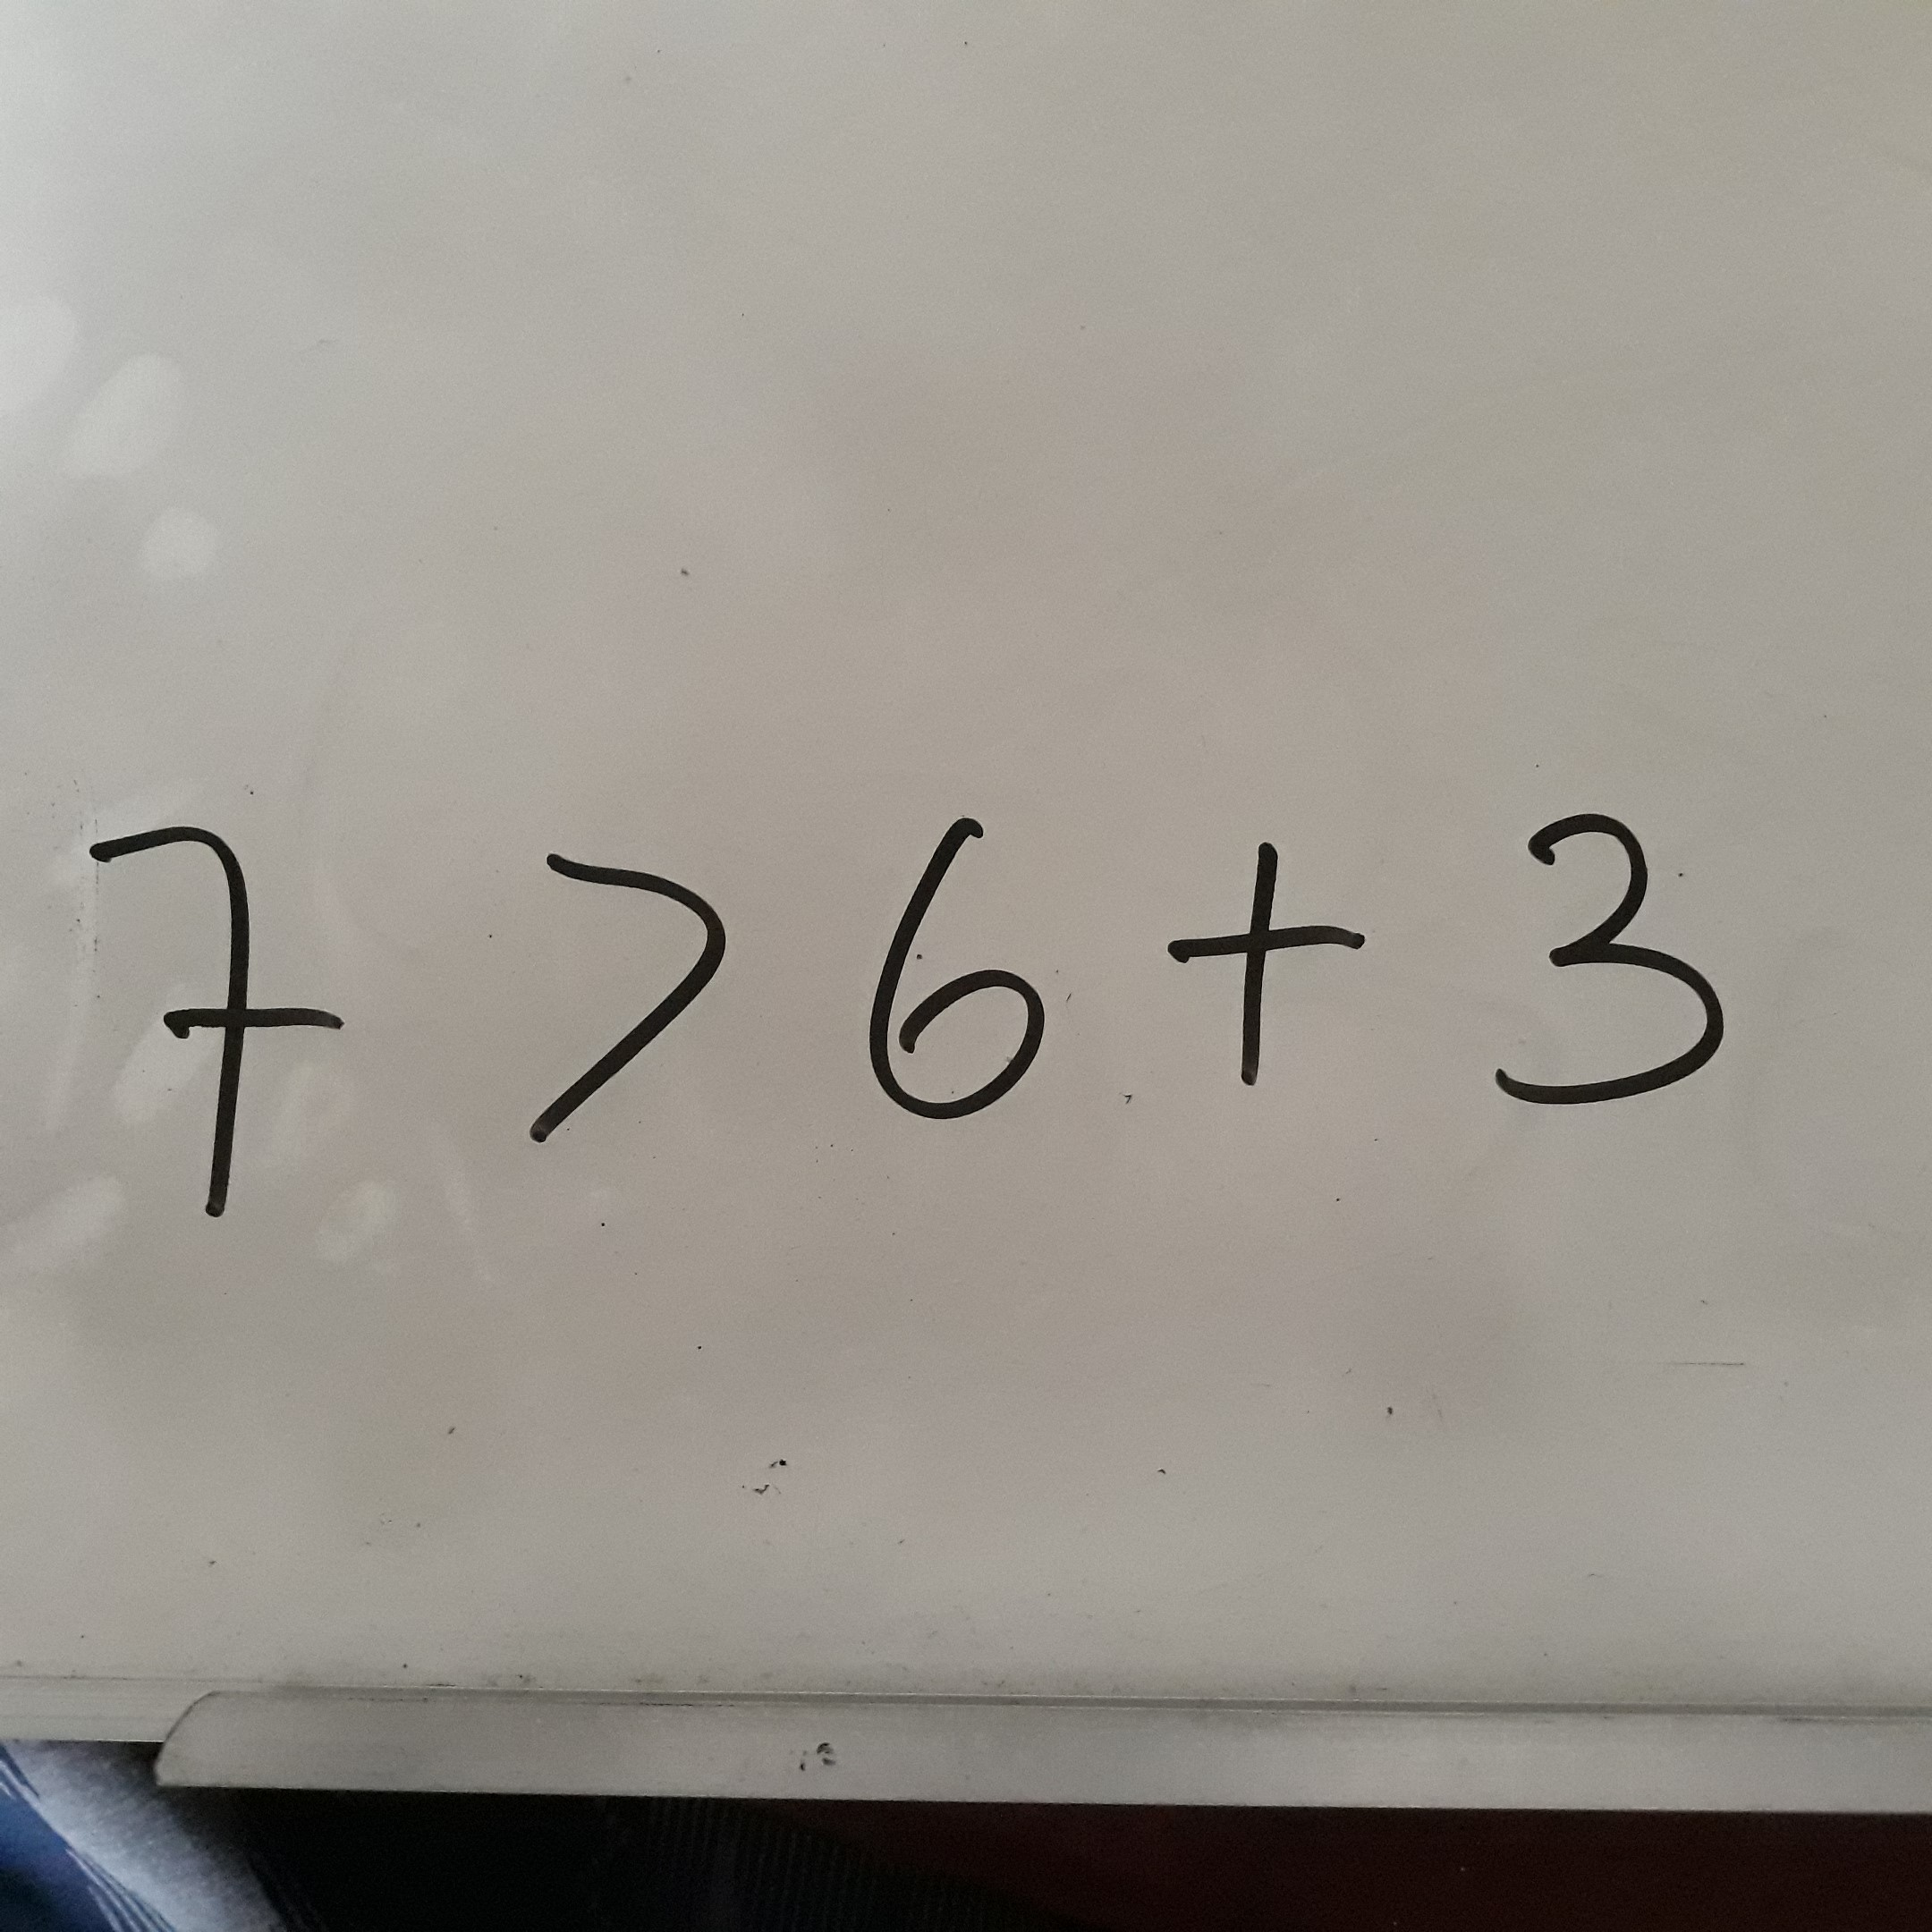morethan: (478, 828, 760, 1157)
num3: (1476, 799, 1761, 1131)
num6: (822, 804, 1105, 1132)
num7: (62, 802, 369, 1246)
sum: (1137, 790, 1386, 1107)
